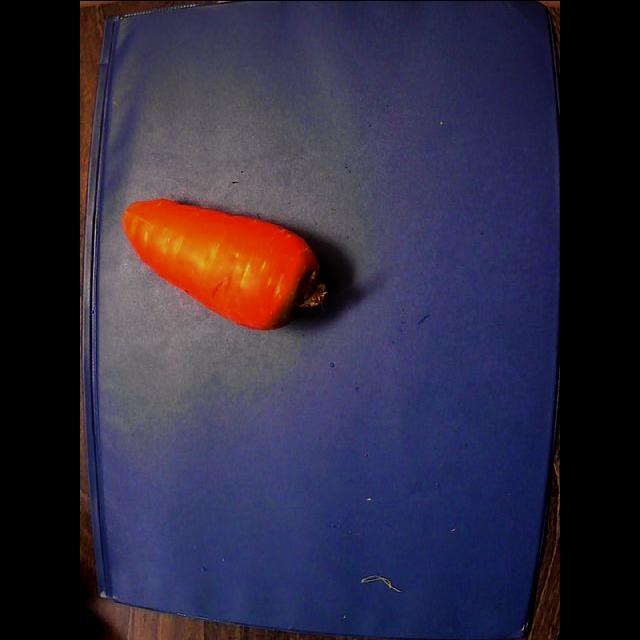zanahoria: (122, 198, 326, 329)
